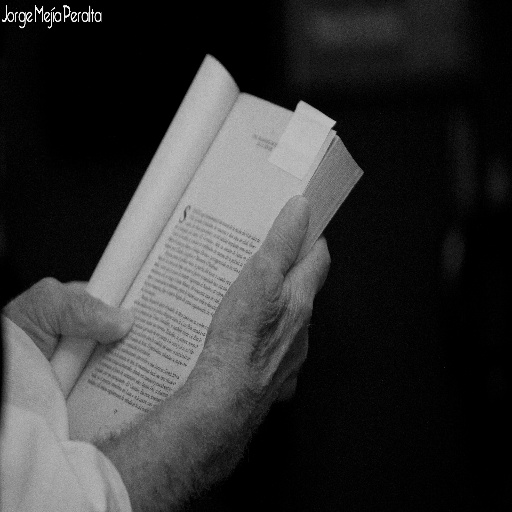hand: (119, 202, 349, 466), (0, 277, 136, 361)
